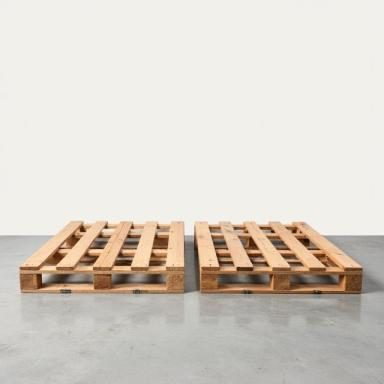pallet: (194, 221, 363, 294), (19, 220, 184, 294), (218, 274, 269, 287), (112, 274, 167, 284), (291, 274, 339, 284), (42, 274, 94, 283)
